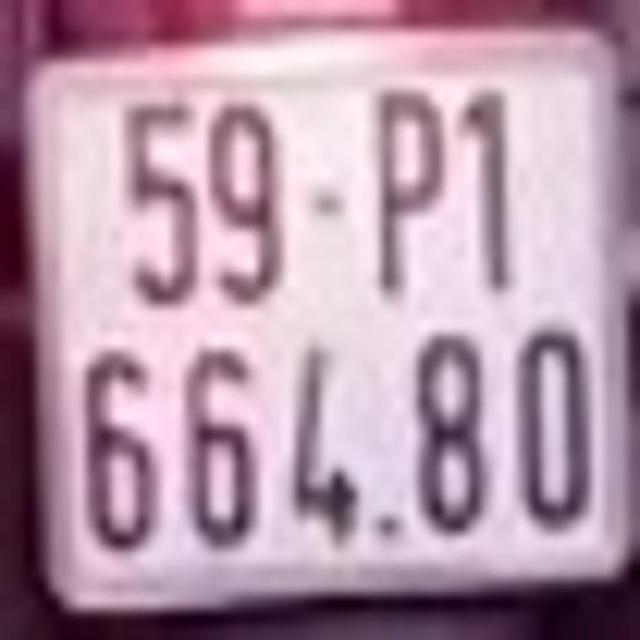0: (520, 319, 596, 522)
1: (458, 74, 508, 289)
4: (290, 339, 360, 543)
5: (130, 96, 200, 307)
6: (82, 352, 153, 550), (186, 342, 253, 550)
8: (414, 328, 484, 531)
9: (213, 100, 286, 310)
P: (376, 82, 444, 287)
